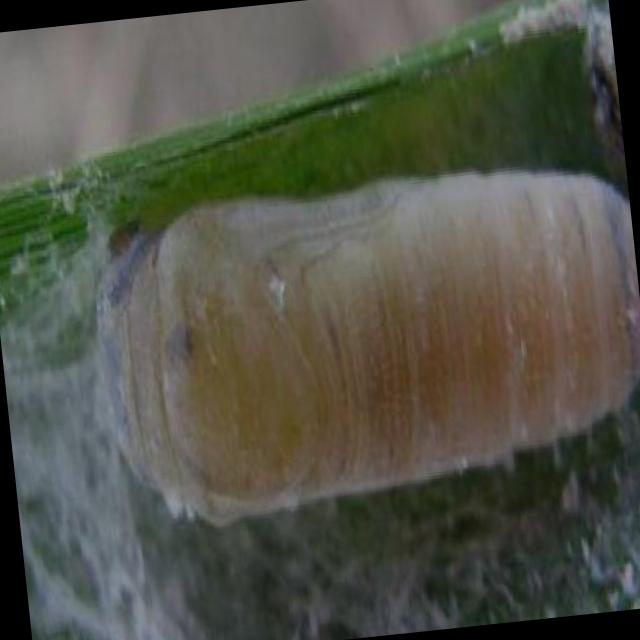leaf-folder: (75, 84, 622, 610)
